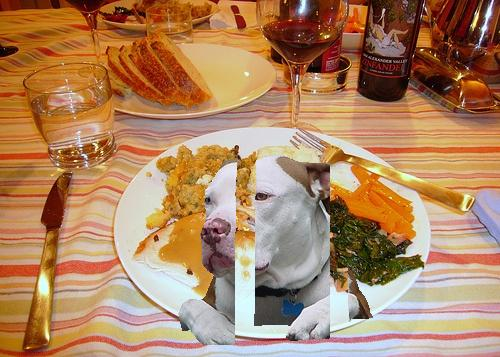tampered: (179, 157, 373, 345)
